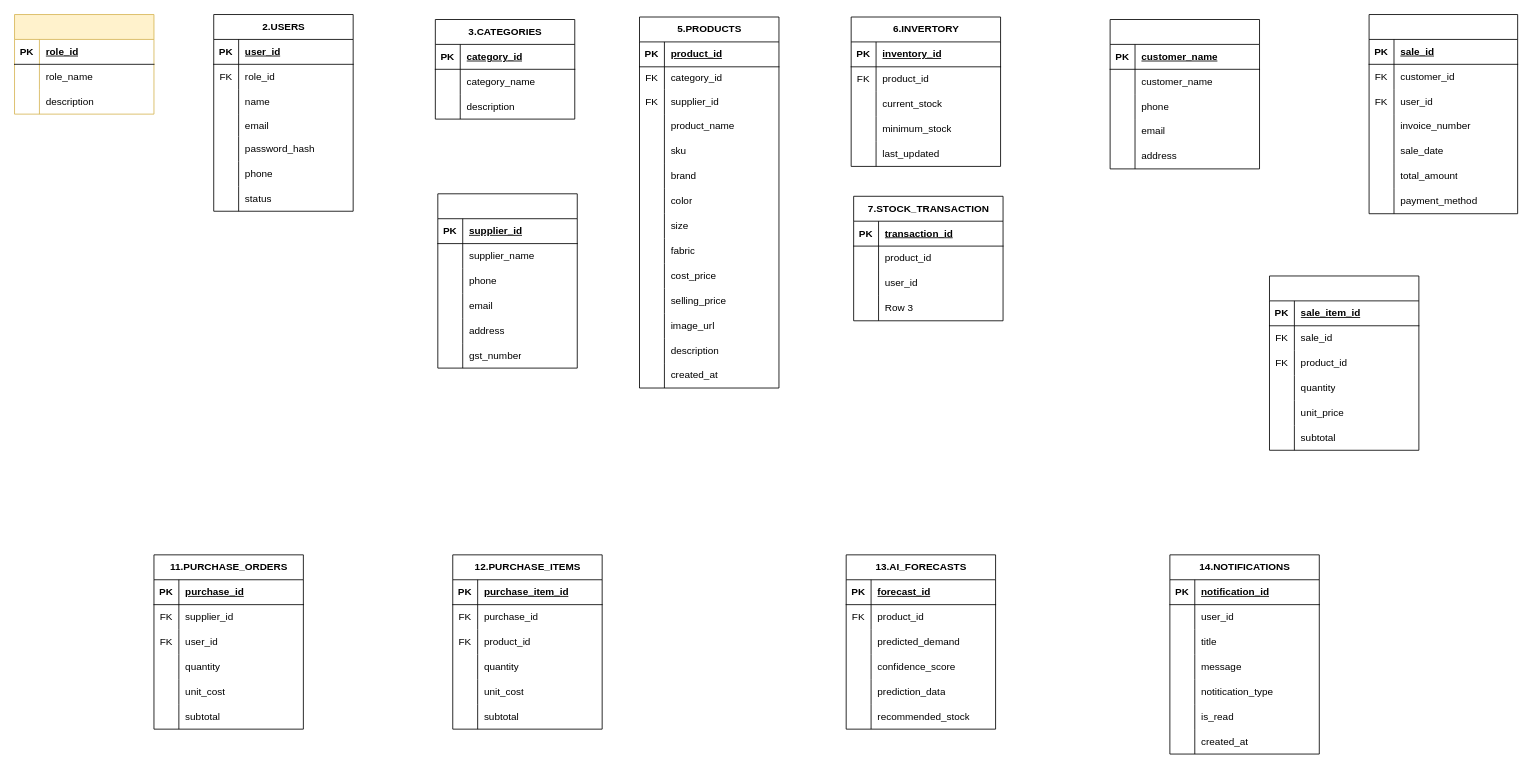
The diagram is 1532 pixels wide and 769 high, and some of its shapes have lost their labels. Here are the shapes that lost their labels. From the top down, the box of each, then its label:
(14, 14, 154, 114): 1.ROLES
(1109, 19, 1260, 169): 8.CUSTOMERS
(1368, 14, 1518, 214): 9.SALES
(437, 193, 577, 368): 4.SUPPLIERS
(1269, 275, 1419, 450): 10.SALE_ITEMS
